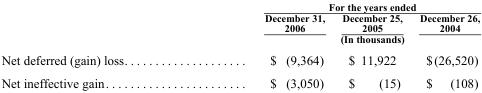table: (0, 0, 479, 89)
table column: (0, 0, 195, 89), (195, 0, 332, 89), (332, 0, 410, 89), (410, 0, 479, 89)
table column header: (0, 0, 479, 48)
table row: (0, 48, 479, 71), (0, 12, 479, 33), (0, 71, 479, 89), (0, 33, 479, 48), (0, 0, 479, 12)
table spanning cell: (195, 33, 479, 48), (195, 0, 479, 12)
